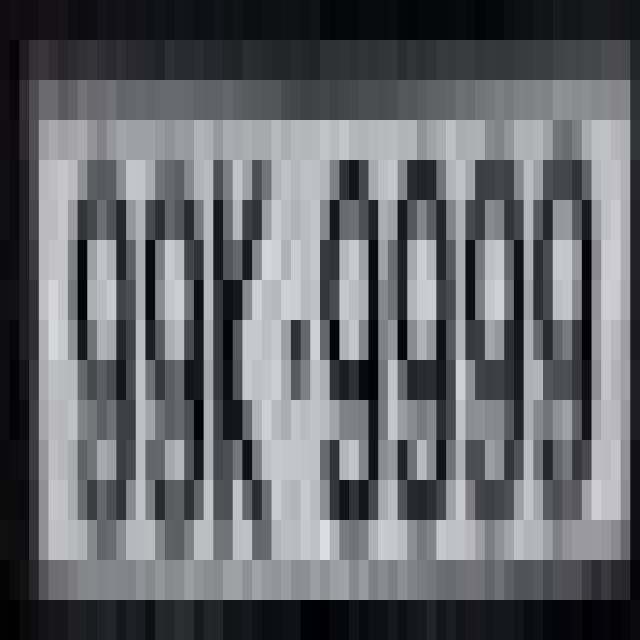9: (393, 140, 451, 540), (73, 140, 131, 540), (320, 140, 378, 540), (466, 120, 524, 520), (534, 120, 592, 520), (146, 140, 203, 540)
K: (214, 140, 272, 580)
